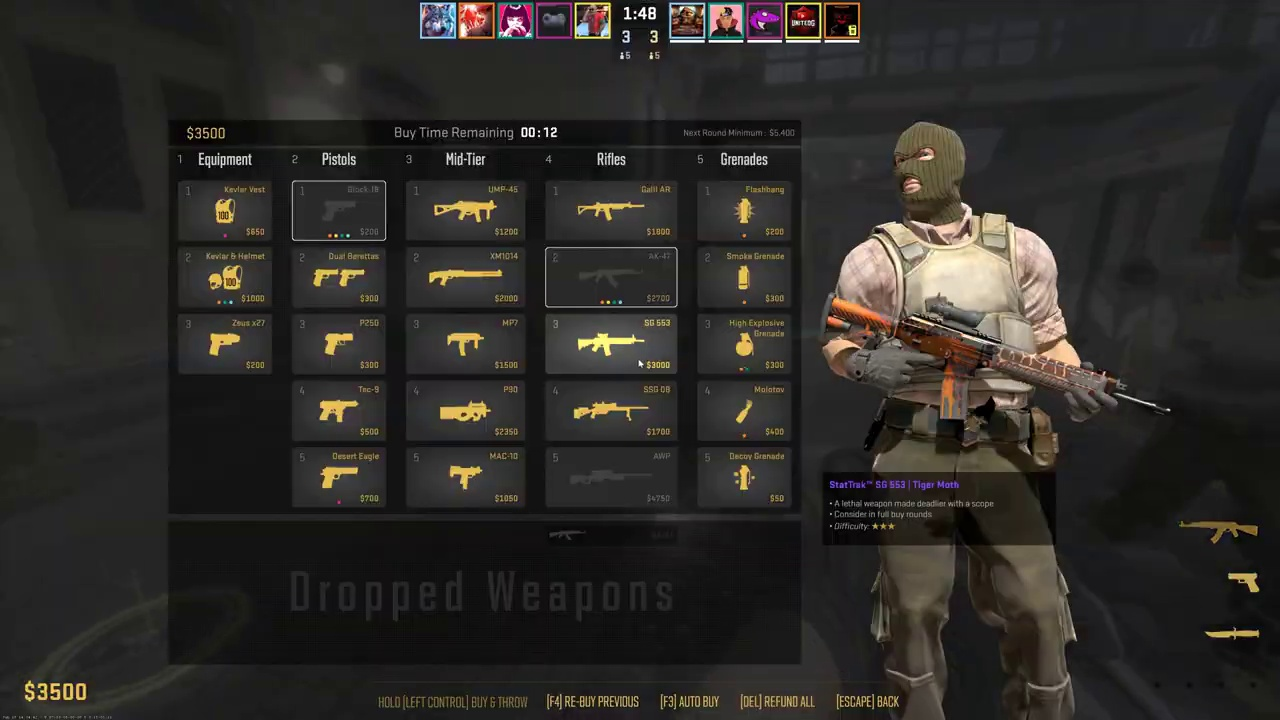Terrorist: (850, 126, 1075, 720)
